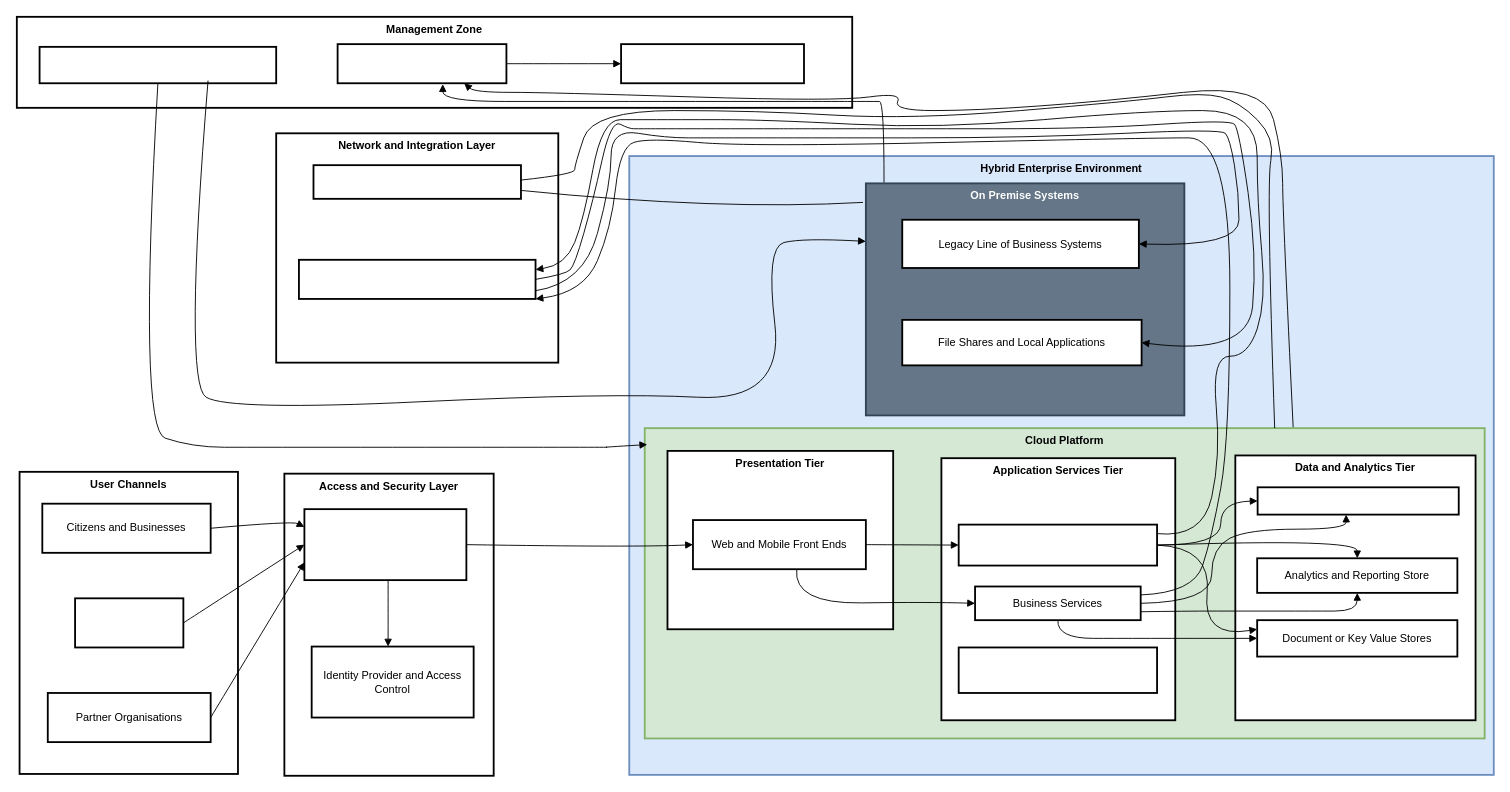
The diagram is 1510 pixels wide and 792 high, and some of its shapes have lost their labels. The centre of each missing label's shape, as x and y in pixels:
"Architecture Governance and Standards" belongs at pixel 157 65.
"Background Jobs and Workers" belongs at pixel 1057 669.
"Internal Staff" belongs at pixel 129 622.
"Messaging and Integration Services" belongs at pixel 417 278.
"Microservices and Domain Services" belongs at pixel 1057 544.
"Monitoring and Logging" belongs at pixel 421 63.
"Operational Databases" belongs at pixel 1357 500.
"Private Network or VPN" belongs at pixel 416 181.
"Security Operations" belongs at pixel 712 63.
"Web Portal and API Gateway" belongs at pixel 385 544.
